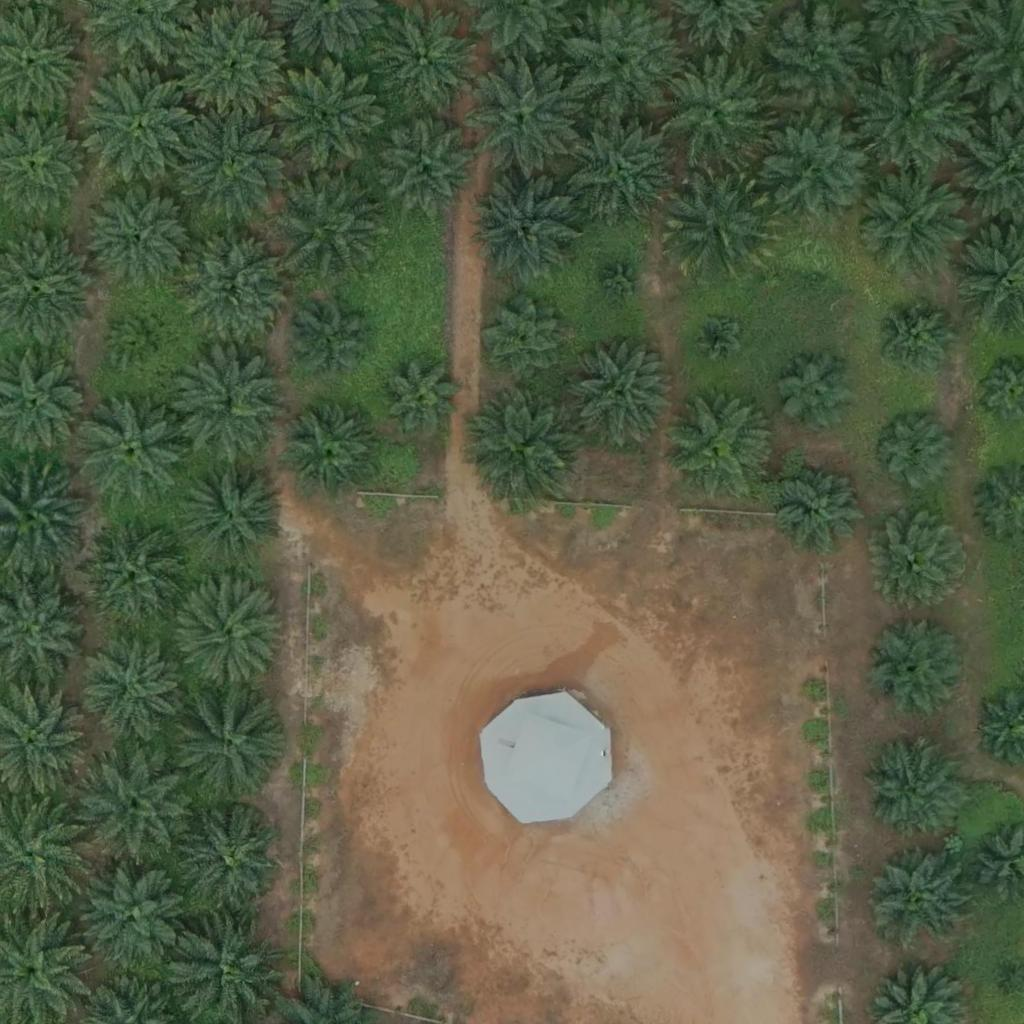Kelapa_Sawit: (853, 55, 966, 169), (178, 228, 291, 342), (84, 69, 197, 183), (858, 165, 971, 278), (760, 5, 873, 118), (468, 62, 581, 175), (471, 177, 584, 290), (182, 9, 295, 122), (176, 104, 289, 217), (76, 395, 189, 508), (73, 517, 186, 630), (172, 352, 285, 465), (176, 456, 289, 569), (176, 579, 289, 692), (171, 691, 284, 804), (471, 390, 584, 503), (79, 750, 191, 864), (663, 390, 775, 504), (662, 166, 774, 279), (765, 112, 877, 225), (660, 56, 772, 169), (560, 2, 672, 115), (564, 109, 676, 222), (277, 58, 389, 171), (276, 165, 388, 278), (564, 340, 676, 453), (76, 862, 188, 975), (378, 118, 478, 219), (861, 737, 961, 838), (869, 848, 969, 949), (92, 186, 192, 286), (82, 637, 182, 737), (181, 810, 281, 910), (871, 511, 971, 611), (866, 618, 966, 718), (287, 408, 375, 497), (780, 463, 868, 551), (483, 298, 570, 386), (774, 348, 861, 436), (873, 298, 960, 386), (870, 407, 957, 495), (296, 308, 371, 384), (382, 359, 457, 434), (113, 311, 175, 374), (598, 256, 648, 307), (692, 312, 742, 363), (789, 249, 839, 299)
